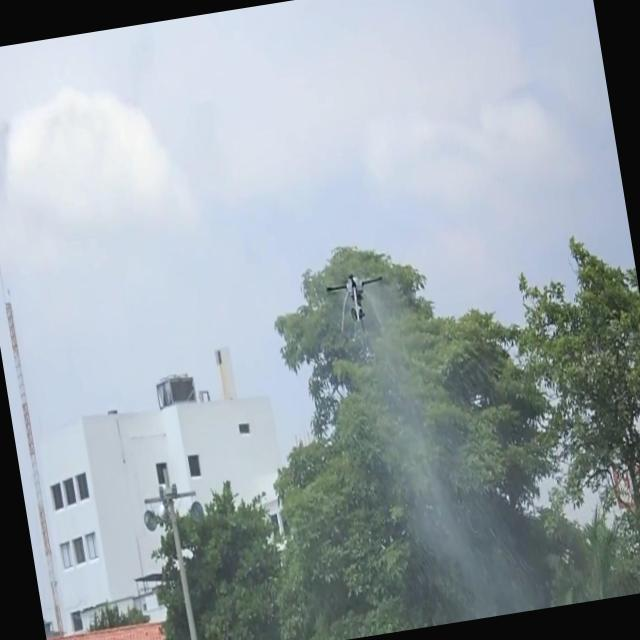drone: (324, 266, 393, 342)
